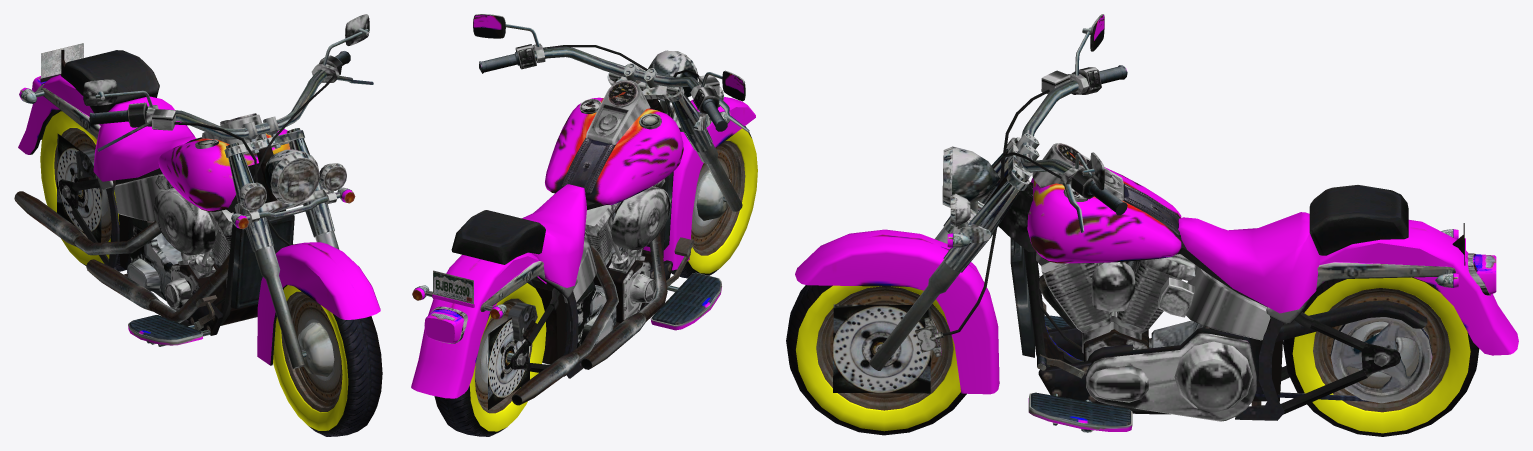
3 renders of one model, left to right at view 1: azimuth 30°, elevation 25°; view 2: azimuth 150°, elevation 25°; view 3: azimuth 270°, elevation 25°, orthographic. The views are drawn at different scales.
Size of the model in its own units: 236 by 245 by 475.
Materials: 6 (6 with a texture image).
